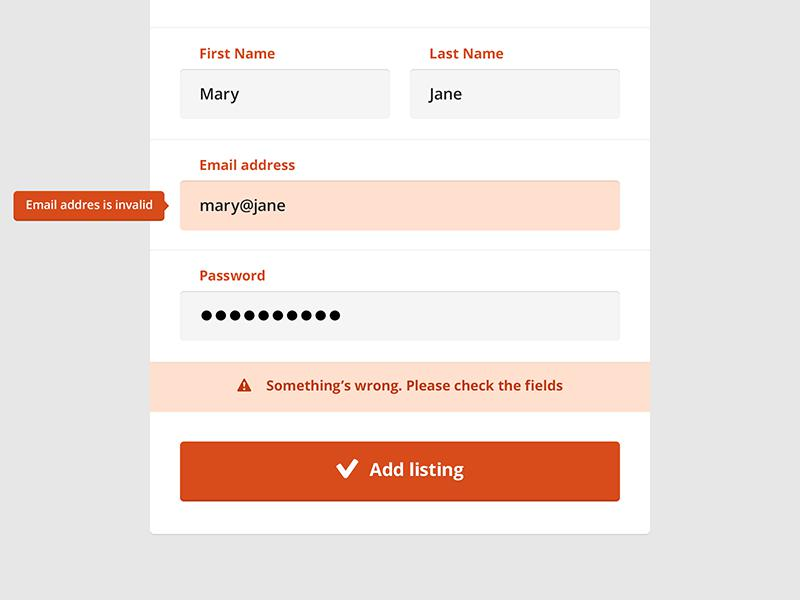error_field: (178, 180, 621, 232)
error_message: (258, 375, 566, 395), (22, 196, 154, 214)
